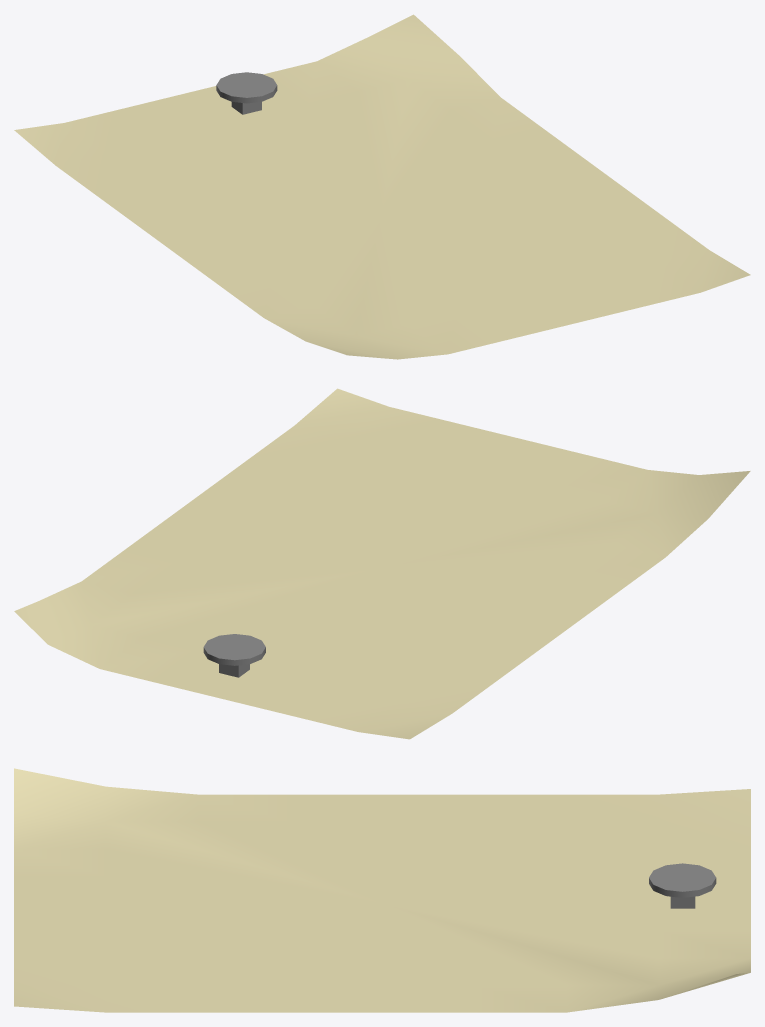
The model's file is paper_with_nail.fbx.
3 views of the same model, one above another, from view 1: azimuth 30°, elevation 25°; view 2: azimuth 150°, elevation 25°; view 3: azimuth 270°, elevation 25° (orthographic). The views are drawn at different scales.
Parts seen in each view (by area): view 1: Paper, Nail; view 2: Paper, Nail; view 3: Paper, Nail.
Boxes of the visible parts, box(x1,y1,x2,y2) form: Paper: box(14, 14, 750, 359); Nail: box(216, 72, 277, 114); Paper: box(14, 388, 750, 739); Nail: box(203, 634, 265, 677); Paper: box(14, 768, 750, 1012); Nail: box(649, 863, 716, 908).
Size of the model in its own units: 140 by 13.14 by 200.
